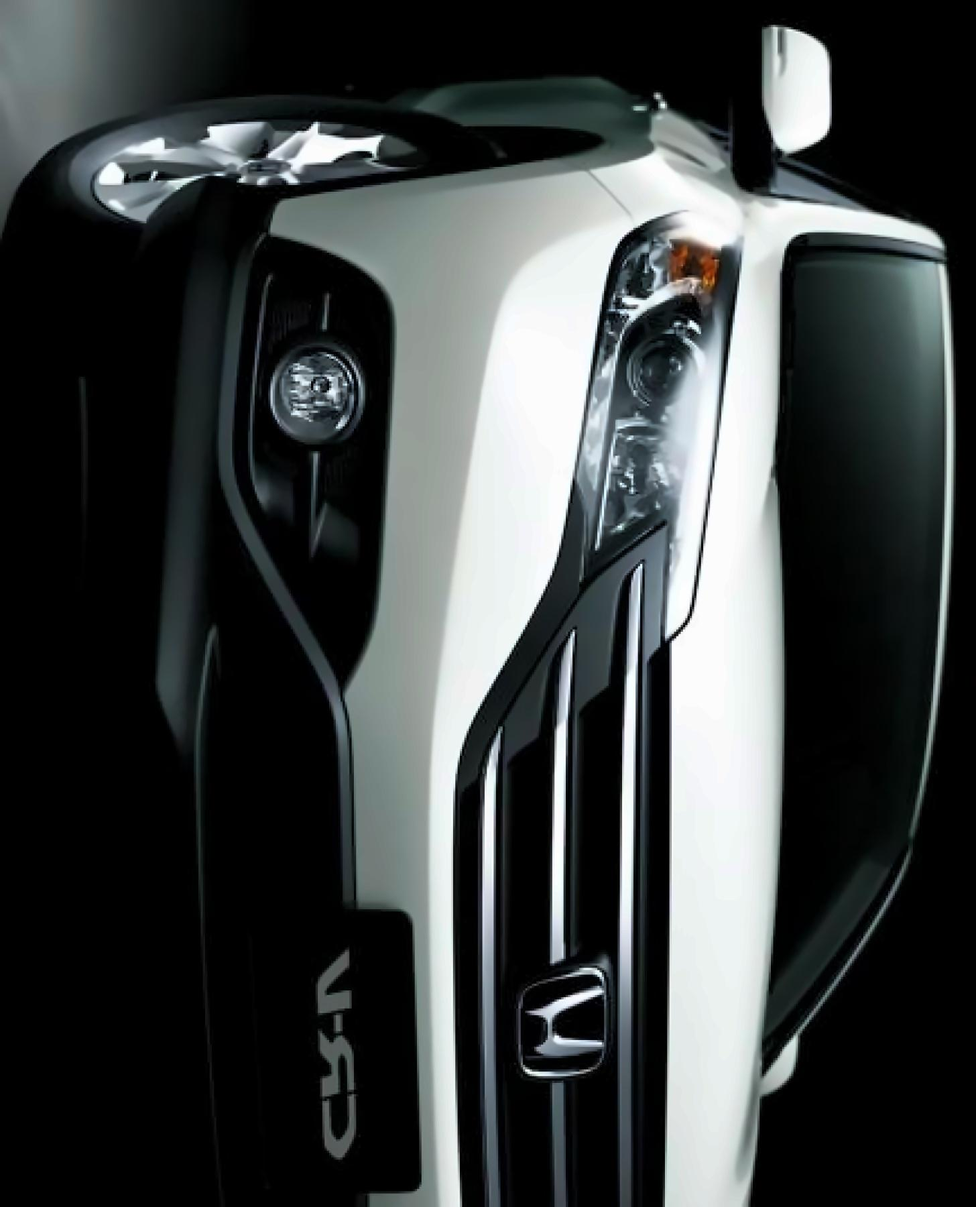Car hood: (659, 184, 811, 1207)
Front bumper: (103, 163, 632, 1207)
Headlight - -R-: (539, 204, 755, 627)
Side mirror - -R-: (747, 7, 858, 200)
